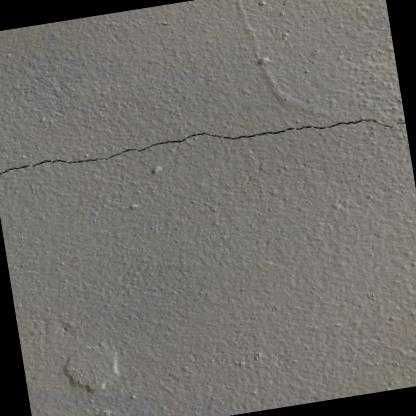crack: (32, 119, 405, 166), (0, 164, 29, 174)
